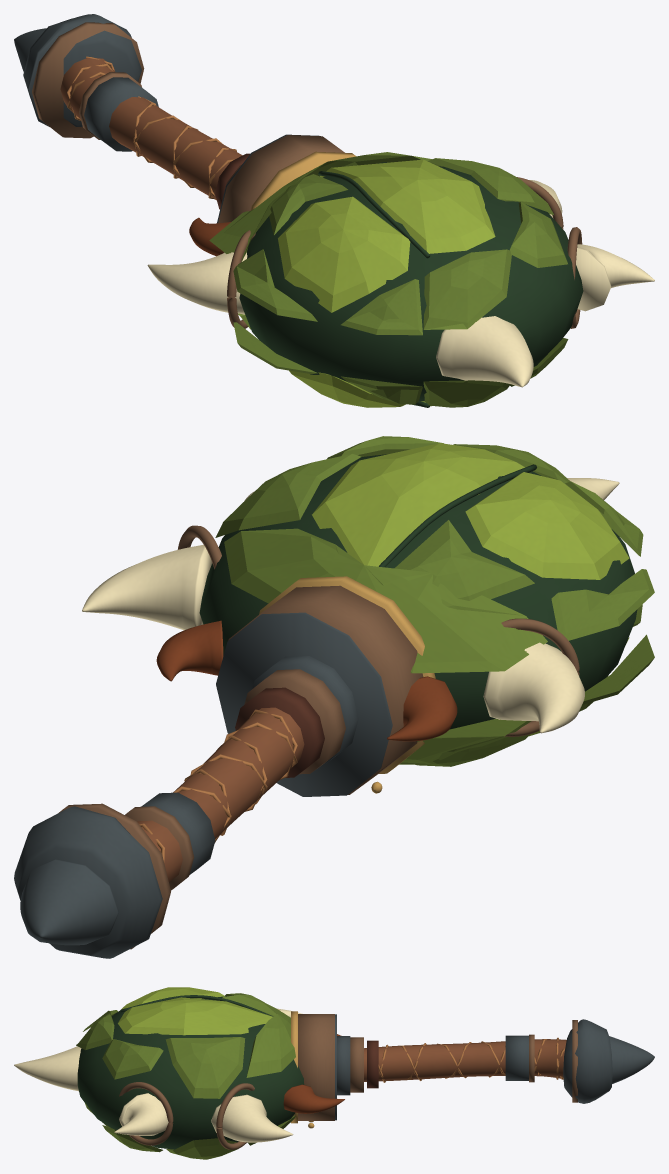
The model's file is beetle_maul.glb.
3 views of the same model, one above another, from view 1: azimuth 30°, elevation 25°; view 2: azimuth 150°, elevation 25°; view 3: azimuth 270°, elevation 25° (orthographic). The views are drawn at different scales.
Visible parts, largest first — view 1: beetle_maul_r2_game_mesh; view 2: beetle_maul_r2_game_mesh; view 3: beetle_maul_r2_game_mesh.
Boxes of the visible parts, left/top/right/bottom form: beetle_maul_r2_game_mesh: left=14, top=14, right=654, bottom=407; beetle_maul_r2_game_mesh: left=14, top=436, right=654, bottom=958; beetle_maul_r2_game_mesh: left=14, top=987, right=654, bottom=1159.
Size of the model in its own units: 0.4526 by 0.2395 by 0.9908.
Materials: 1 (1 with a texture image).
